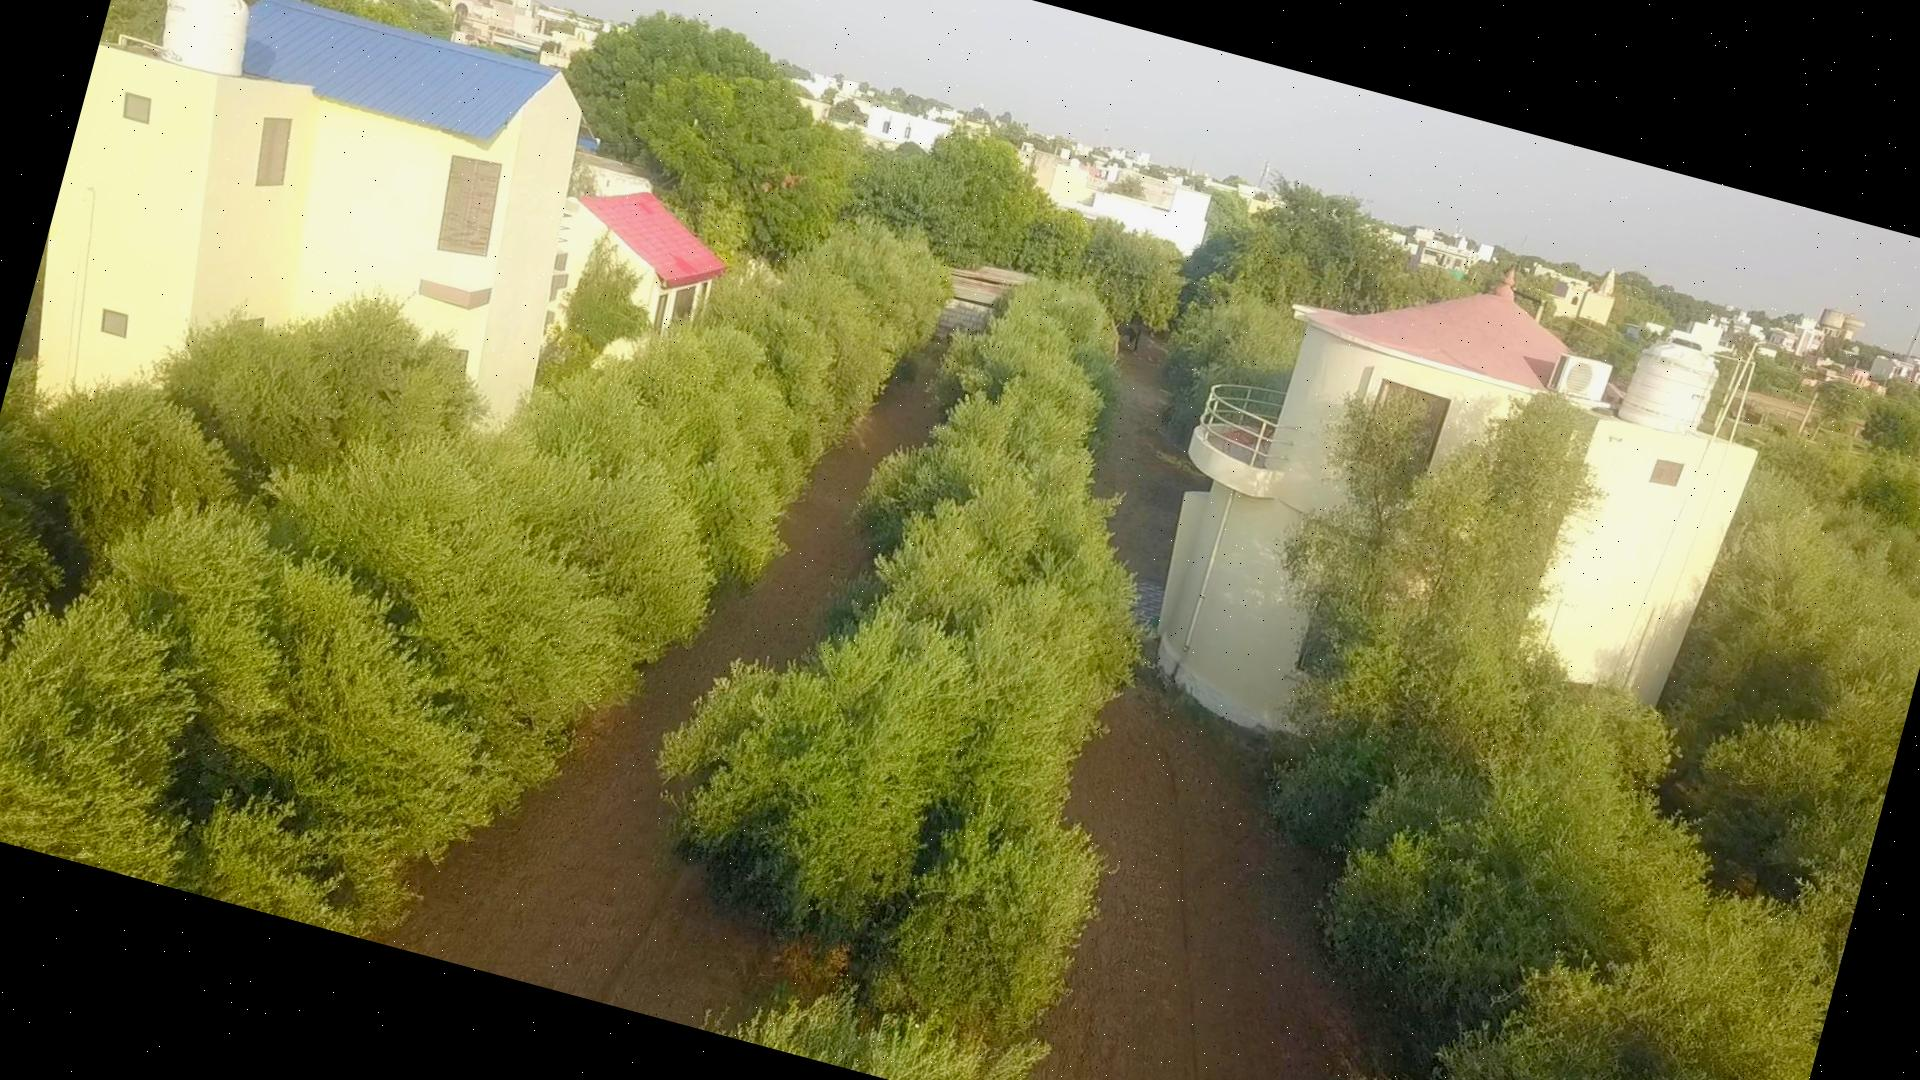canopy: (0, 224, 948, 934), (1267, 409, 1832, 1080), (658, 280, 1139, 1036)
road: (381, 359, 939, 1026), (1035, 678, 1358, 1080)
